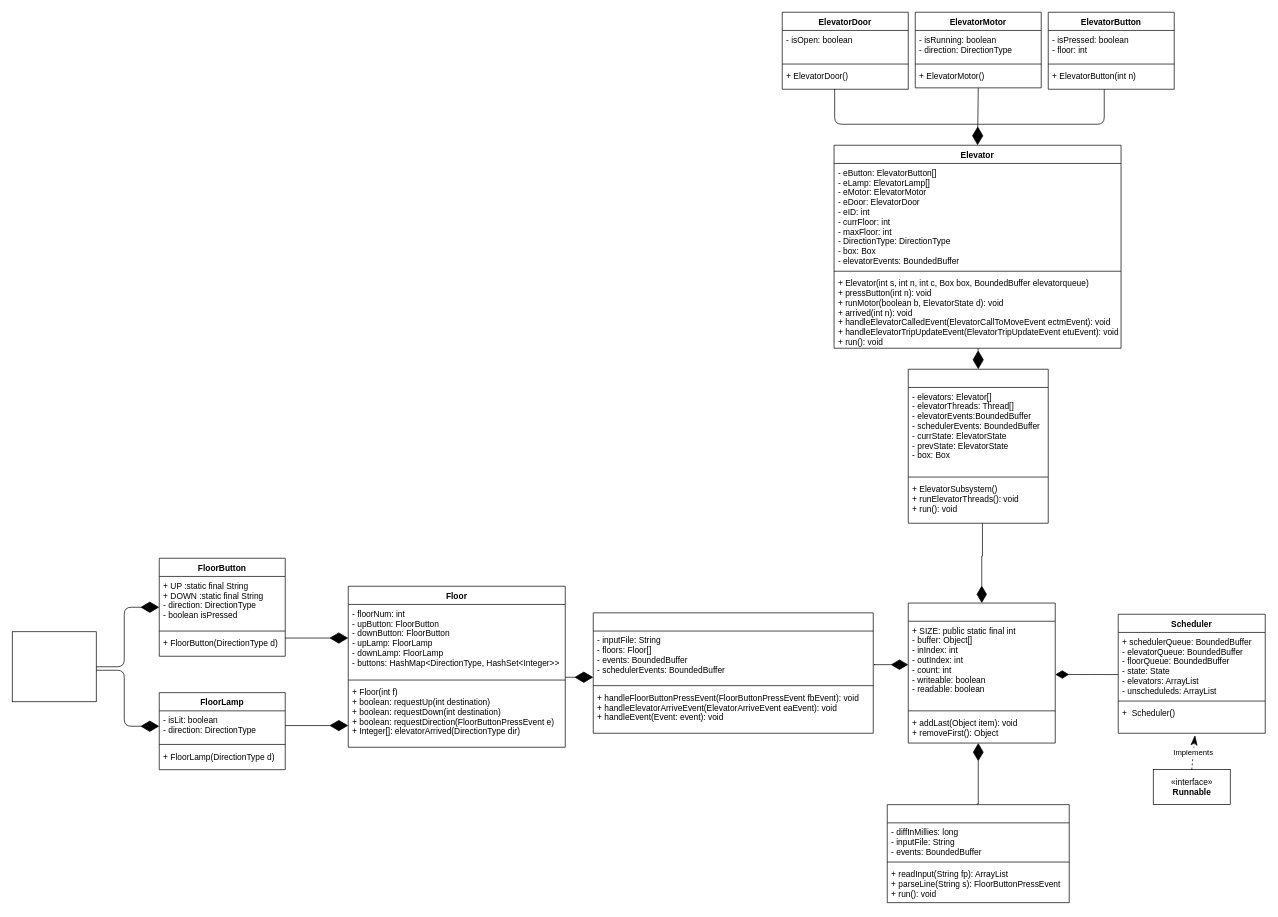
Some shapes in this 1278 by 917 pixel diagram are drawn without their labels. The shapes that lost their labels are listed below. From the top down, each one's box as (x1, y1, x2, y2) in pixels, then its label:
(908, 369, 1048, 523): ElevatorSubsytem
(12, 631, 96, 702): <<Enumeration>> DirectionType UP DOWN STILL
(593, 612, 873, 733): FloorSubsystem
(908, 602, 1055, 743): BoundedBuffer
(887, 804, 1069, 903): InputStream
